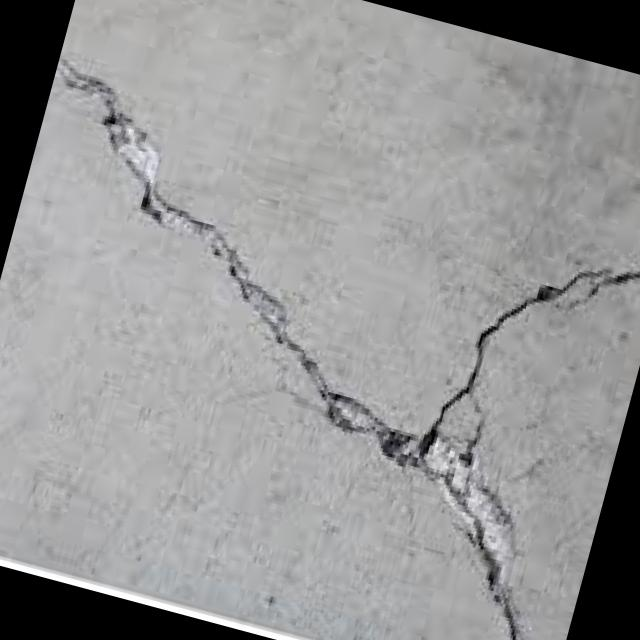crack: (0, 57, 640, 640), (422, 216, 640, 488)
